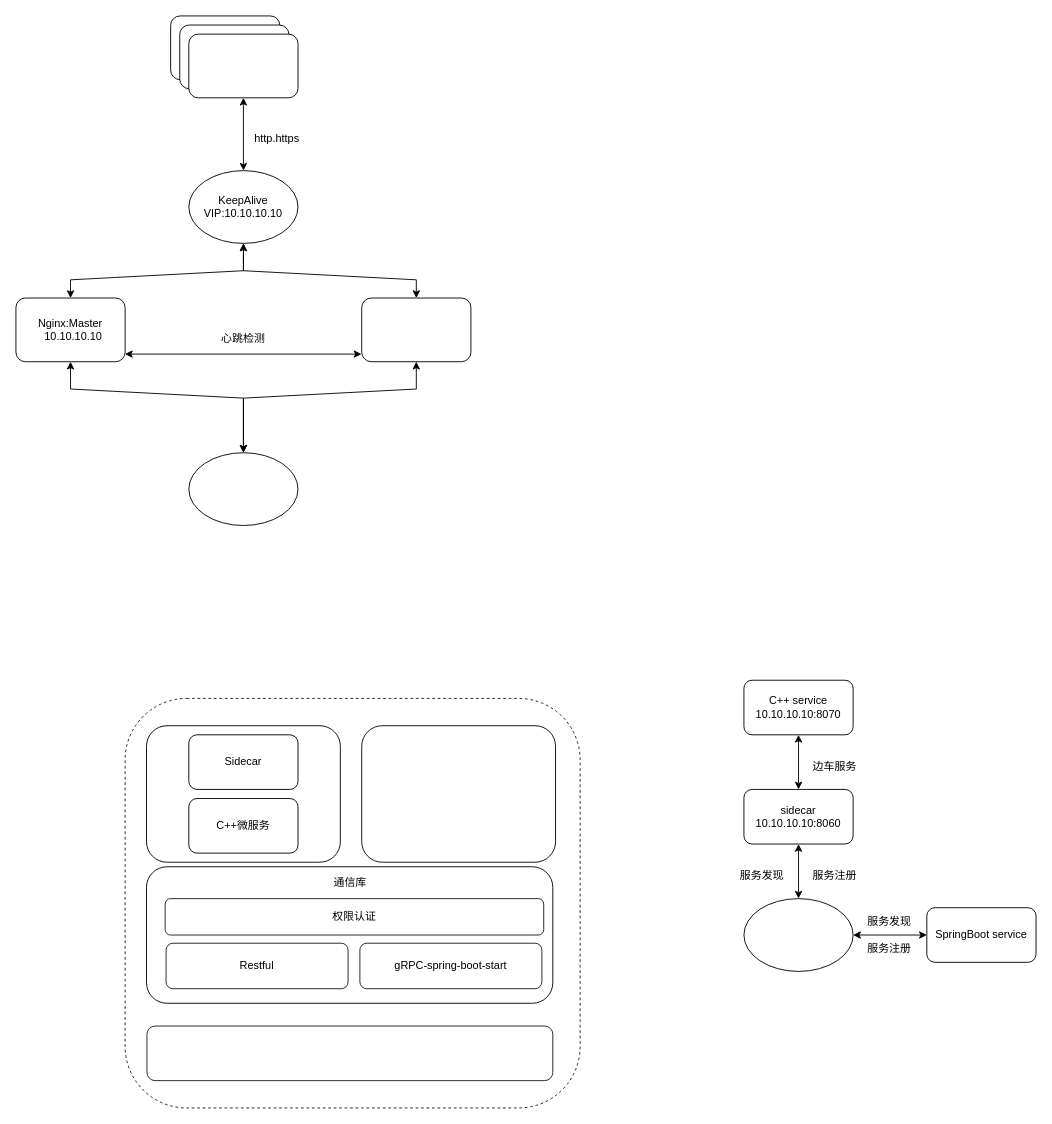
The diagram is 1052 pixels wide and 1124 high, and some of its shapes have lost their labels. Each missing label, with the box of its shape:
Client: (188, 33, 298, 98)
Java微服务: (361, 725, 556, 862)
Nacos集群: (743, 898, 853, 971)
Nginx:Backup 10.10.10.11: (361, 297, 471, 362)
服务集群: (188, 452, 298, 526)
软件服务化集成平台: (146, 1025, 553, 1081)
